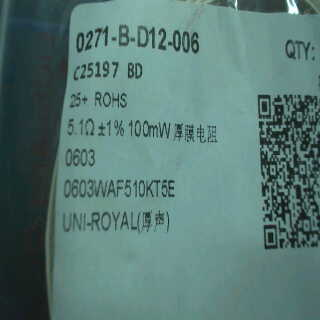5.1R: (67, 114, 97, 139)
